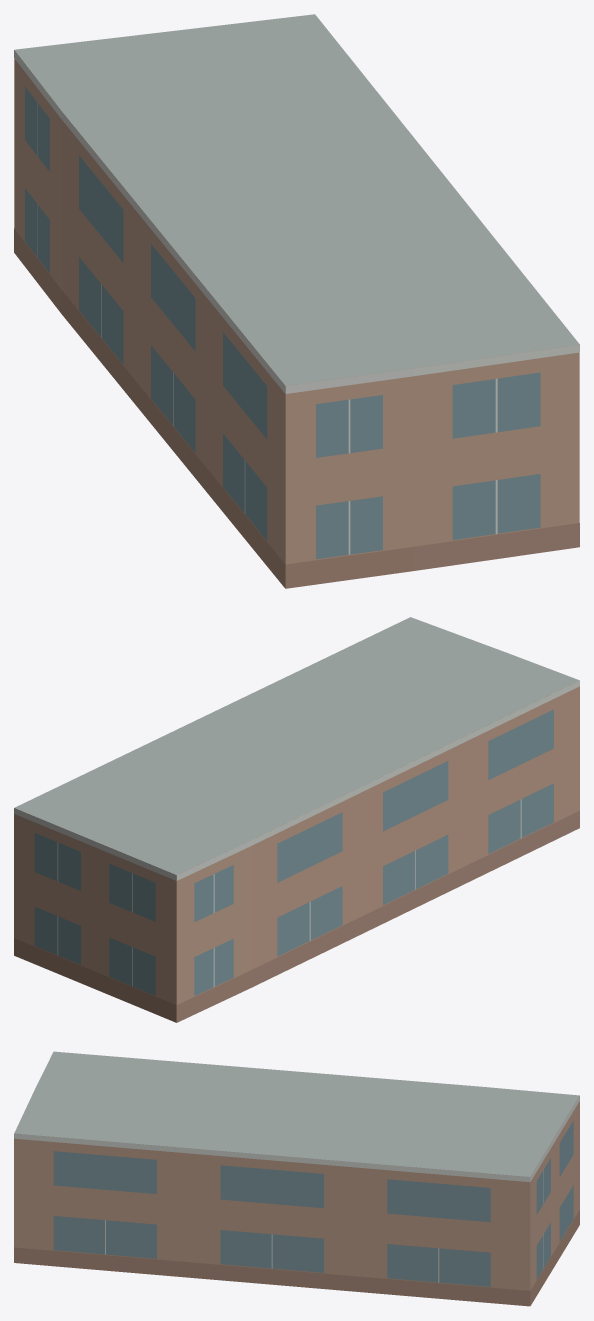
File: survey-upis-32615600.glb
3 renders of one model, top to bottom at view 1: azimuth 30°, elevation 25°; view 2: azimuth 150°, elevation 25°; view 3: azimuth 270°, elevation 25°, orthographic. The views are drawn at different scales.
Parts seen in each view (by area): view 1: survey-upis-32615600.tmp; view 2: survey-upis-32615600.tmp; view 3: survey-upis-32615600.tmp.
Part boxes in pixels (x1,y1,x2,y2): survey-upis-32615600.tmp: (14, 14, 579, 588); survey-upis-32615600.tmp: (14, 617, 579, 1022); survey-upis-32615600.tmp: (14, 1051, 579, 1306).
Bounding box in the file's own units: 12.7 × 6.1 × 24.18.
